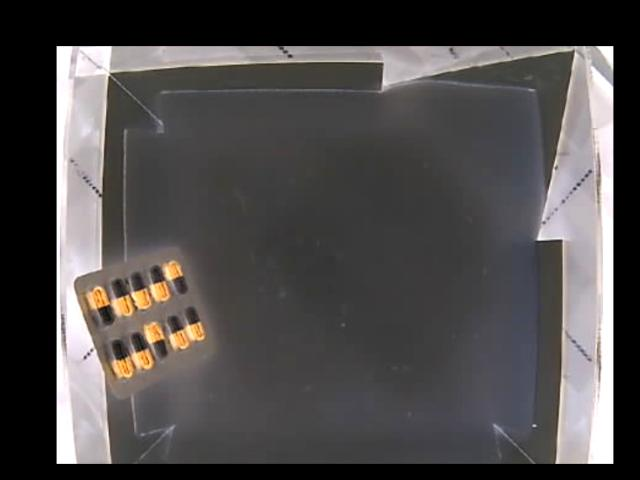Medicine: (73, 245, 214, 397)
